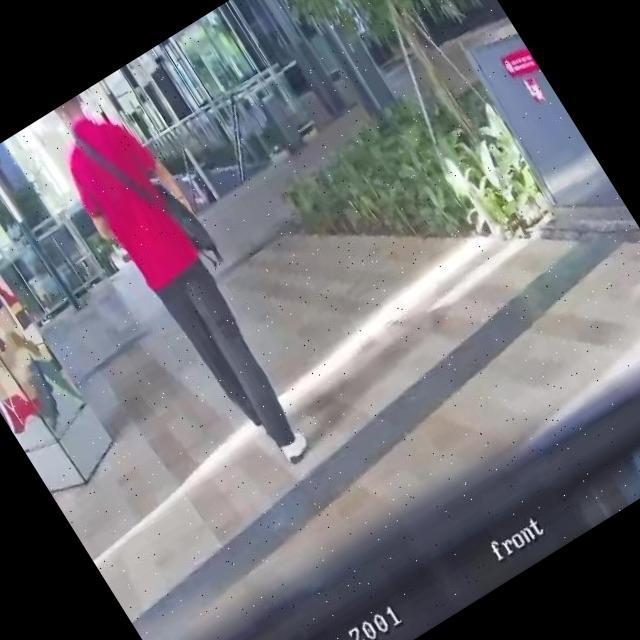person: (30, 74, 338, 488)
